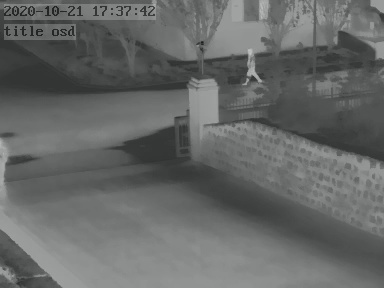person: (241, 46, 264, 84)
